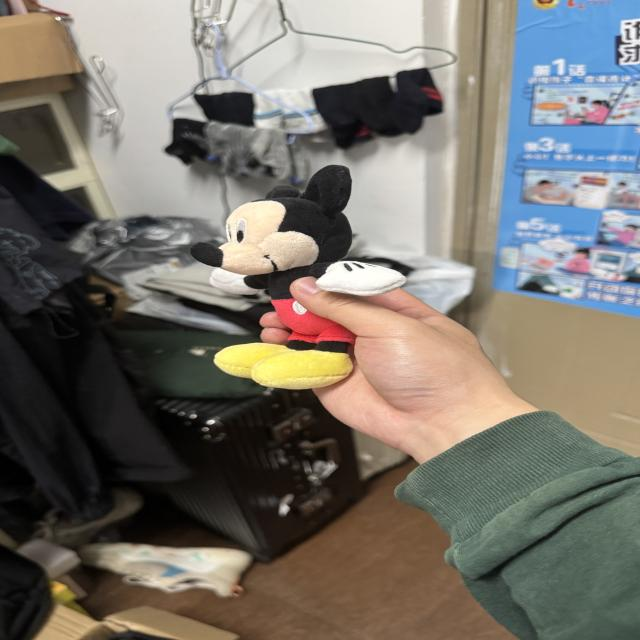mickey: (192, 166, 405, 389)
